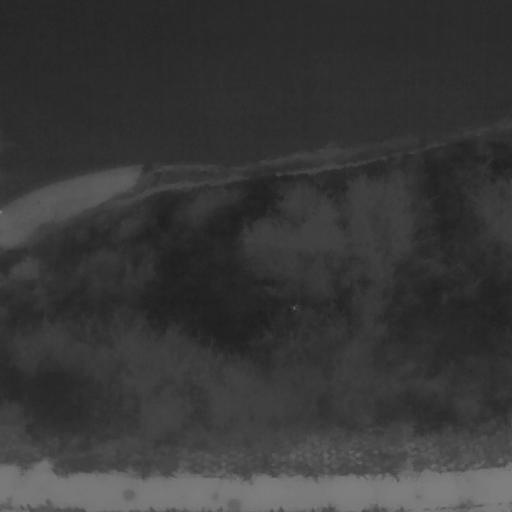uav: (291, 304, 301, 314)
